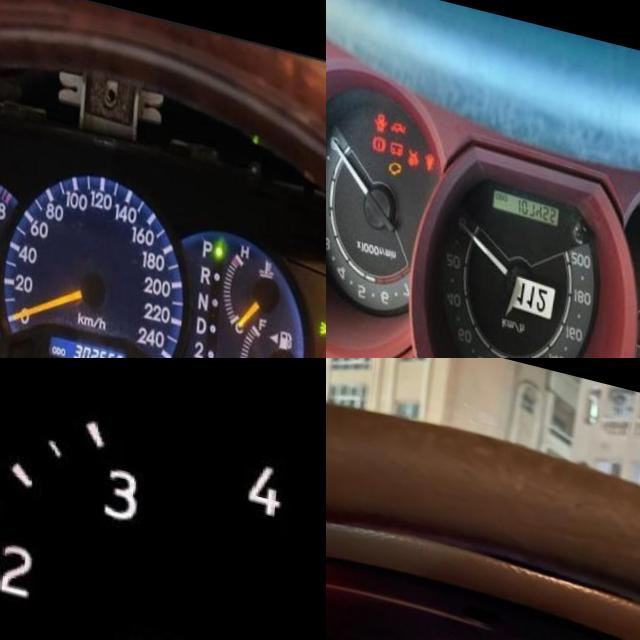Seat Belt: (427, 142, 438, 161)
